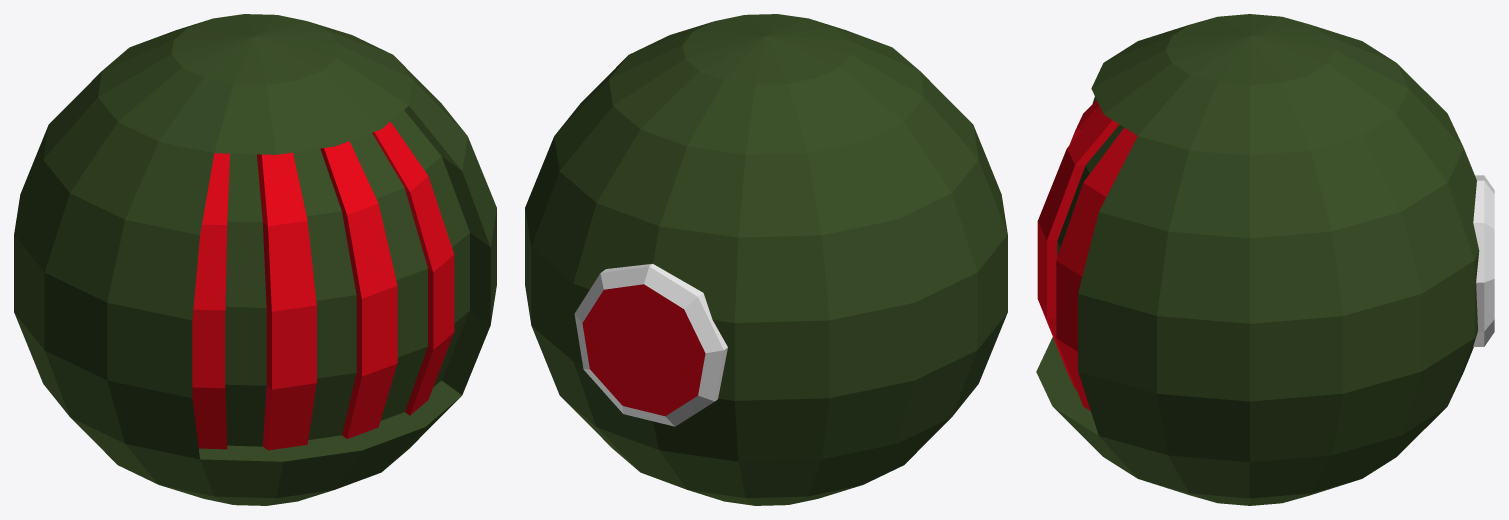
The model's file is BolderRobot.fbx.
3 views of the same model, side by side, from view 1: azimuth 30°, elevation 25°; view 2: azimuth 150°, elevation 25°; view 3: azimuth 270°, elevation 25° (orthographic).
Visible parts, largest first — view 1: Sphere; view 2: Sphere; view 3: Sphere.
Part boxes in pixels (box(x1,y1,x2,y2)): Sphere: box(14, 14, 496, 505); Sphere: box(525, 14, 1007, 505); Sphere: box(1036, 14, 1494, 505).
Bounding box in the file's own units: 197 × 200 × 186.
